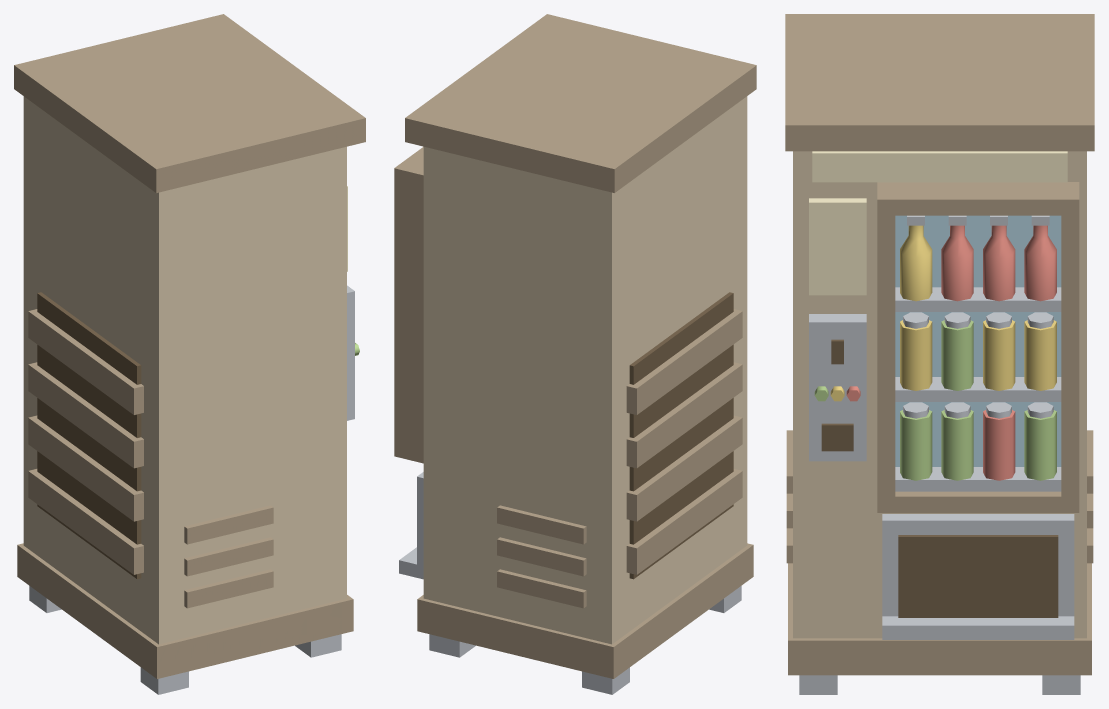
Rendered from building.vendingmachine.glb.
The picture shows the model from 3 angles, left to right: view 1: azimuth 30°, elevation 25°; view 2: azimuth 150°, elevation 25°; view 3: azimuth 270°, elevation 25°; orthographic projection. The views are drawn at different scales.
Visible parts, largest first — view 1: Paint, PaintDark, Door, Metal; view 2: Paint, PaintDark, Door, Metal; view 3: PaintDark, Metal, Paint, Door, Light, Glass, FruitRed, FruitGold, FruitGreen.
Boxes of the visible parts, x1,y1,x2,y2 form: Paint: [23, 96, 346, 644]; PaintDark: [14, 14, 365, 678]; Door: [37, 292, 141, 579]; Metal: [29, 285, 354, 694]; Paint: [423, 96, 747, 644]; PaintDark: [394, 14, 756, 678]; Door: [629, 292, 733, 579]; Metal: [399, 472, 741, 694]; PaintDark: [785, 14, 1094, 675]; Metal: [799, 215, 1080, 694]; Paint: [793, 151, 1086, 638]; Door: [821, 339, 1058, 617]; Light: [809, 151, 1067, 295]; Glass: [895, 215, 1061, 466]; FruitRed: [846, 225, 1056, 480]; FruitGold: [830, 225, 1056, 401]; FruitGreen: [814, 320, 1056, 480].
Size of the model in its own units: 0.455 by 1 by 0.484.
